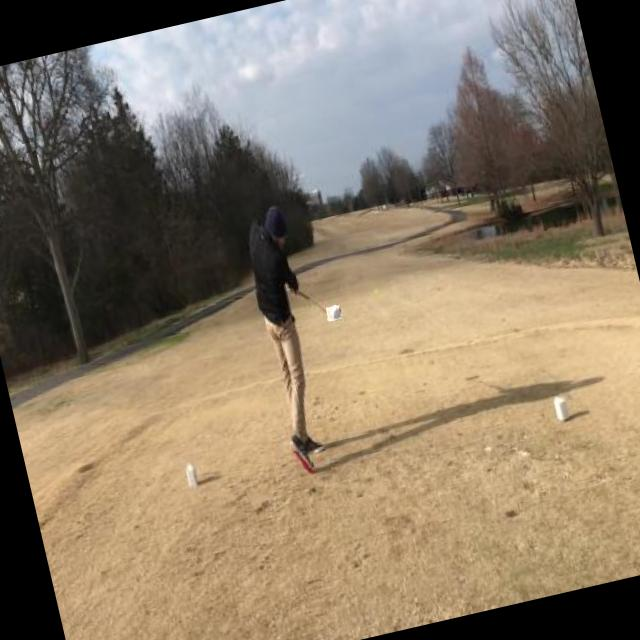club head: (325, 304, 341, 322)
